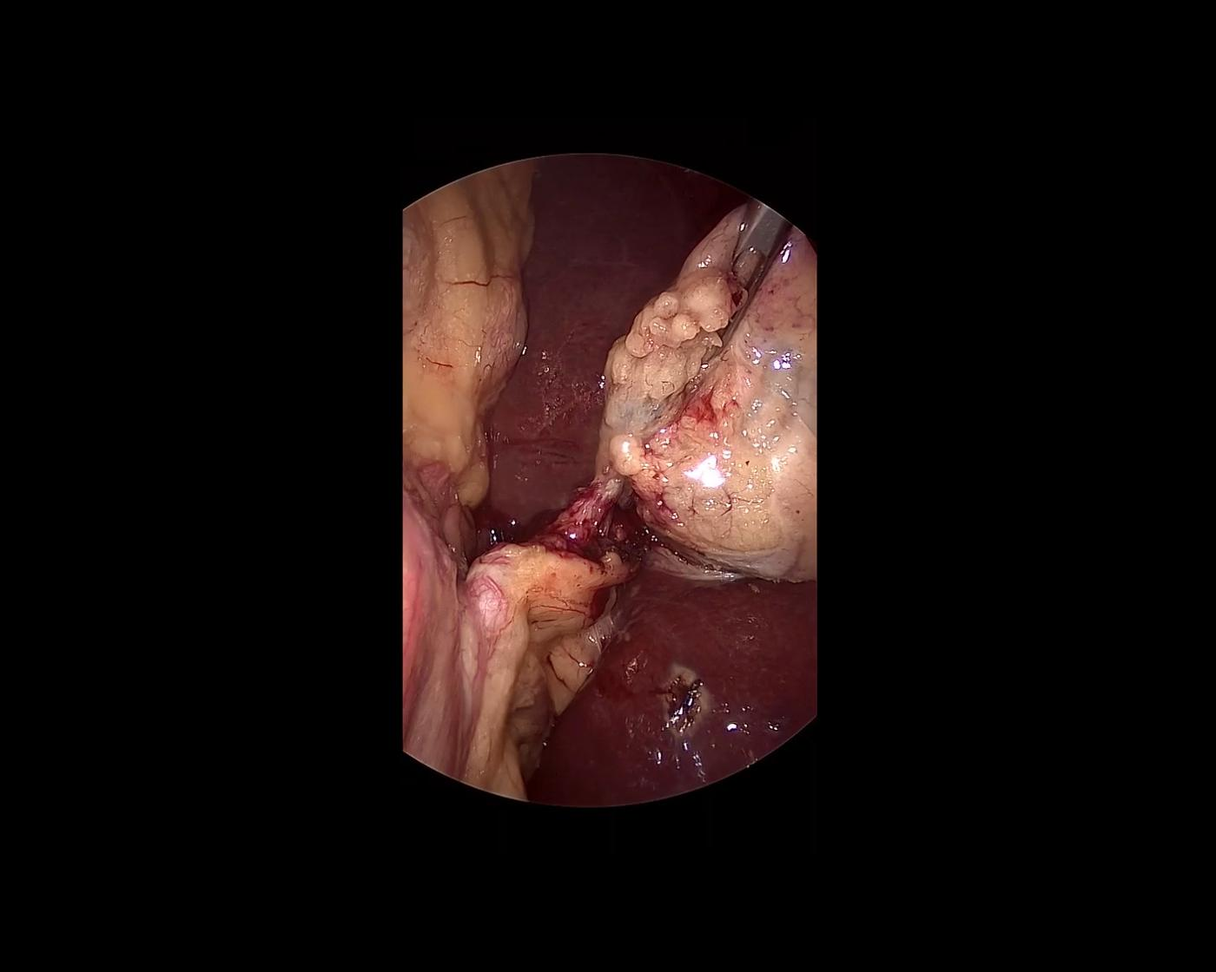Forceps: (683, 202, 792, 351)
Gallbladder: (602, 199, 815, 581)
Liver: (375, 100, 746, 546), (533, 561, 827, 827)
